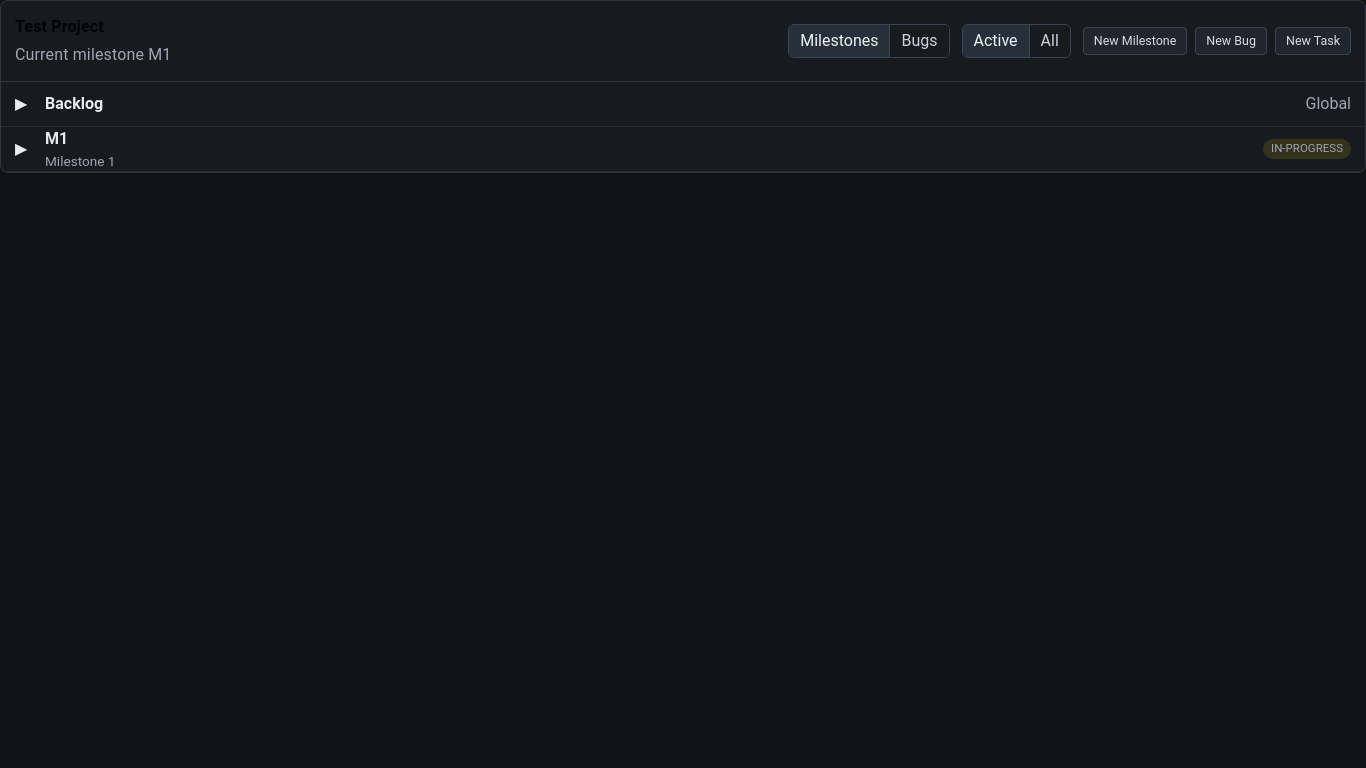
Test: TaskflowView Refactored Filters › saves task edits and surfaces notify warnings
Expected: the text "Milestone 1" is shown, [45,153,116,169]
Click the button "▶ M1 Milestone 1 in-progress". click: x=80, y=161
box: [1,127,1365,171]
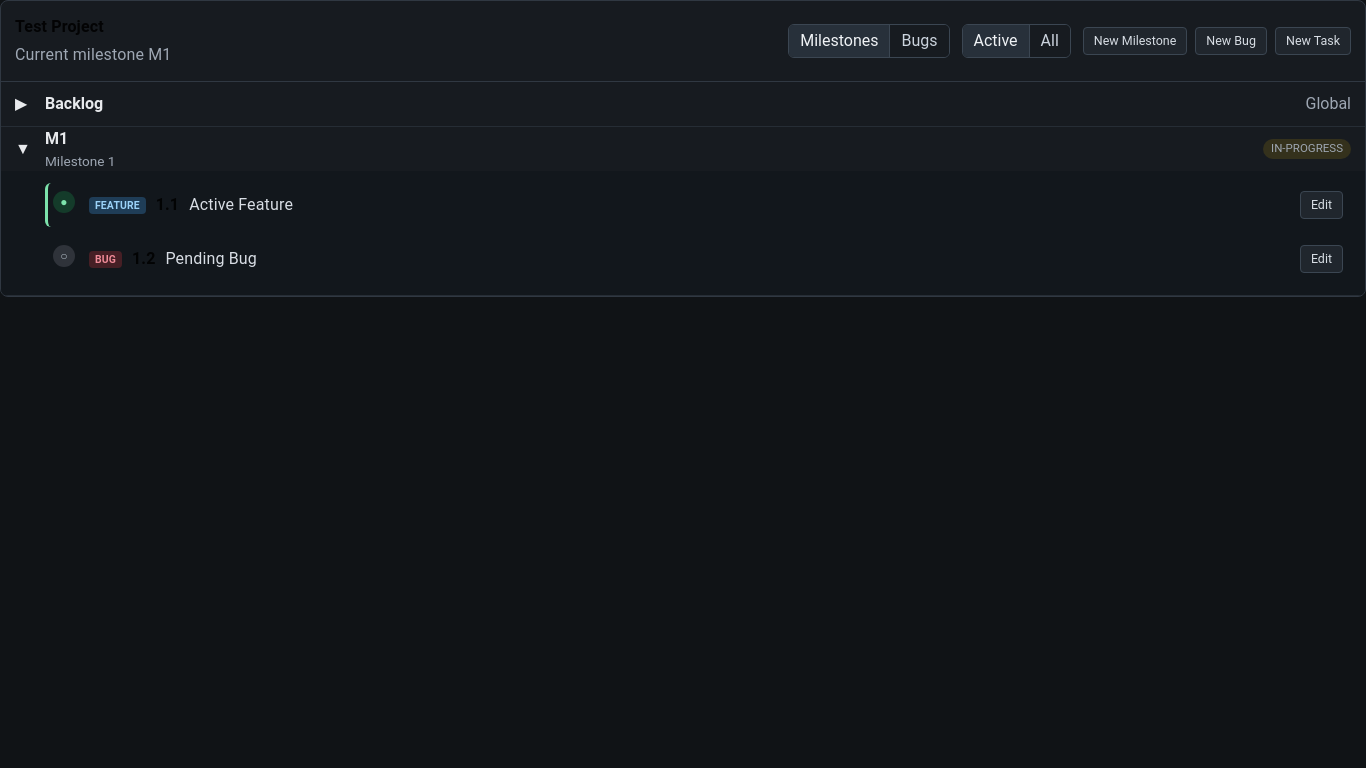
Result: the text "Active Feature" is shown at [189,193,293,217]
Click the button "Edit" in the row of "Pending Bug". click: x=1321, y=259
box: [1300,245,1343,273]
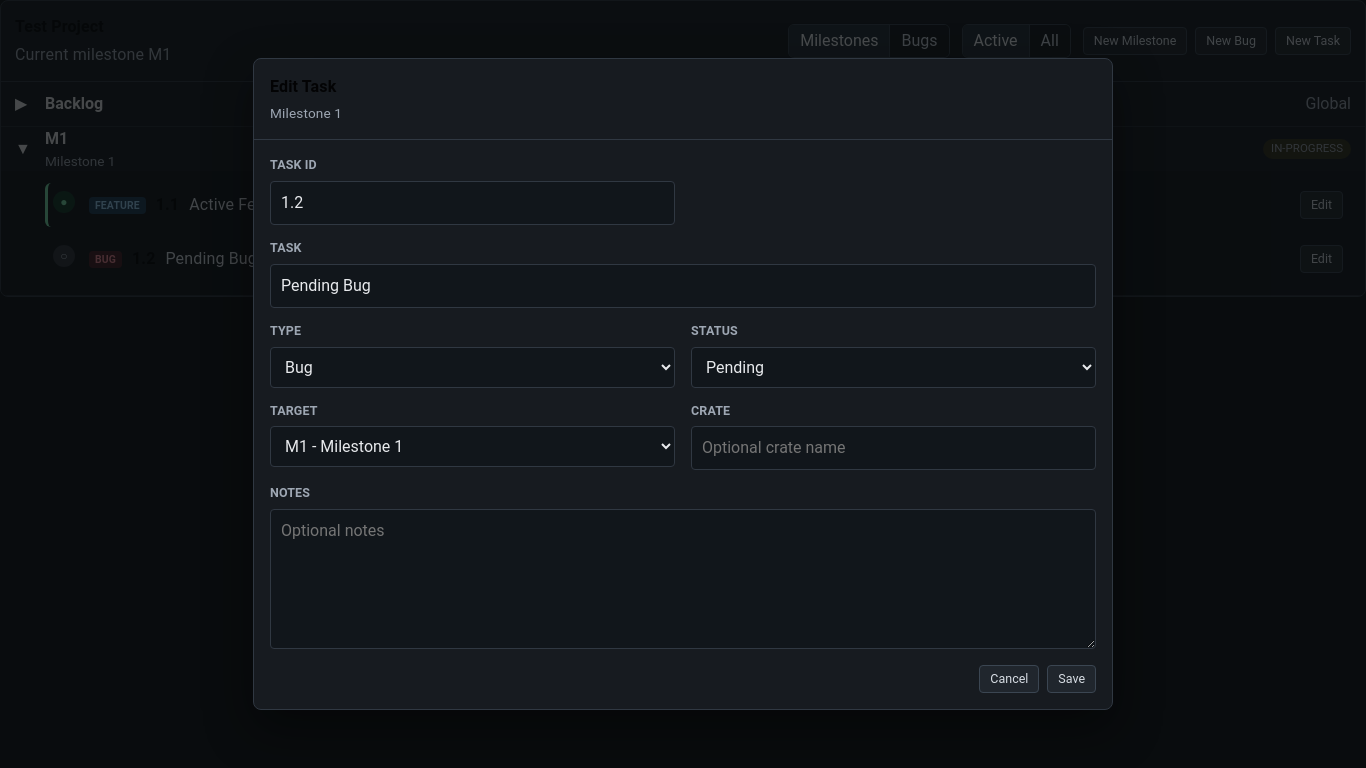
Type "updated notes" into the text box labelled "Notes". click: x=683, y=579
box: [270,509,1096,649]
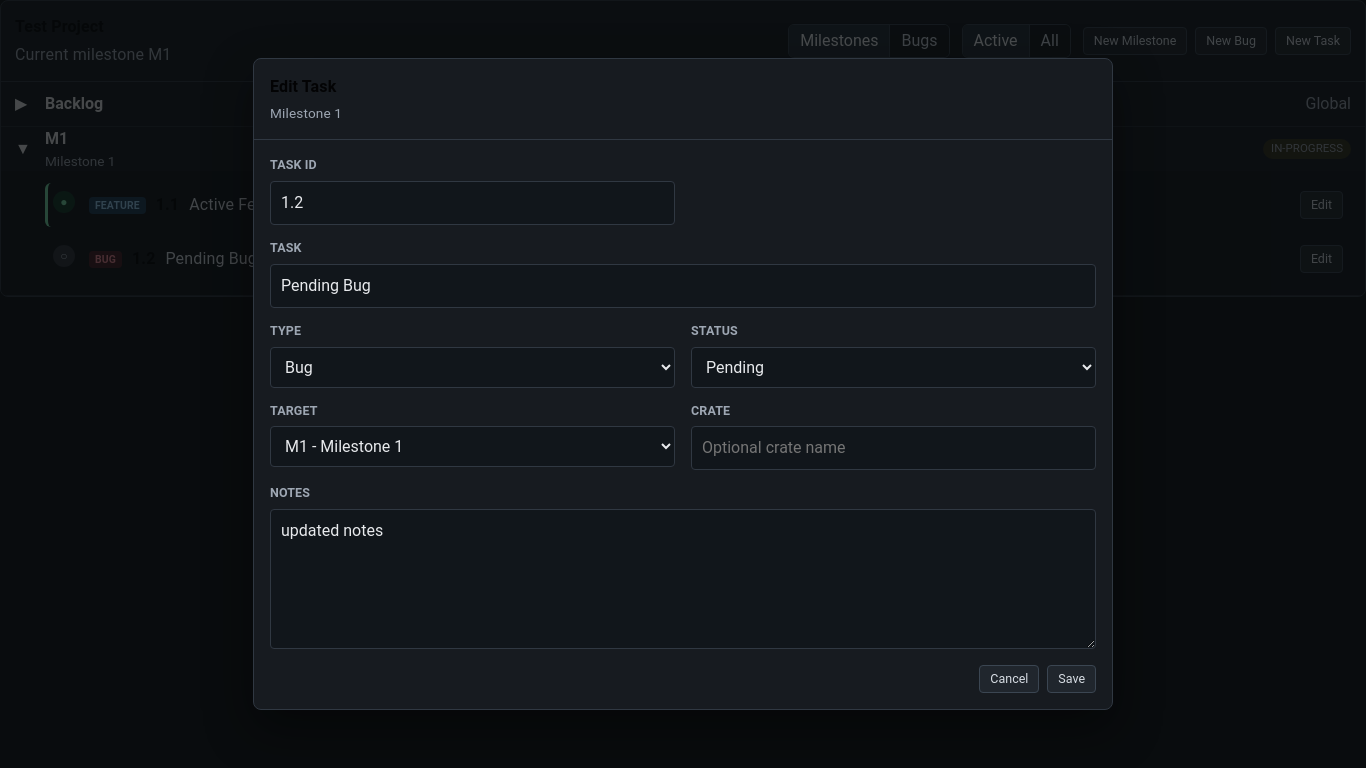
Click the button "Save". click: x=1072, y=679
box: [1047,665,1096,693]
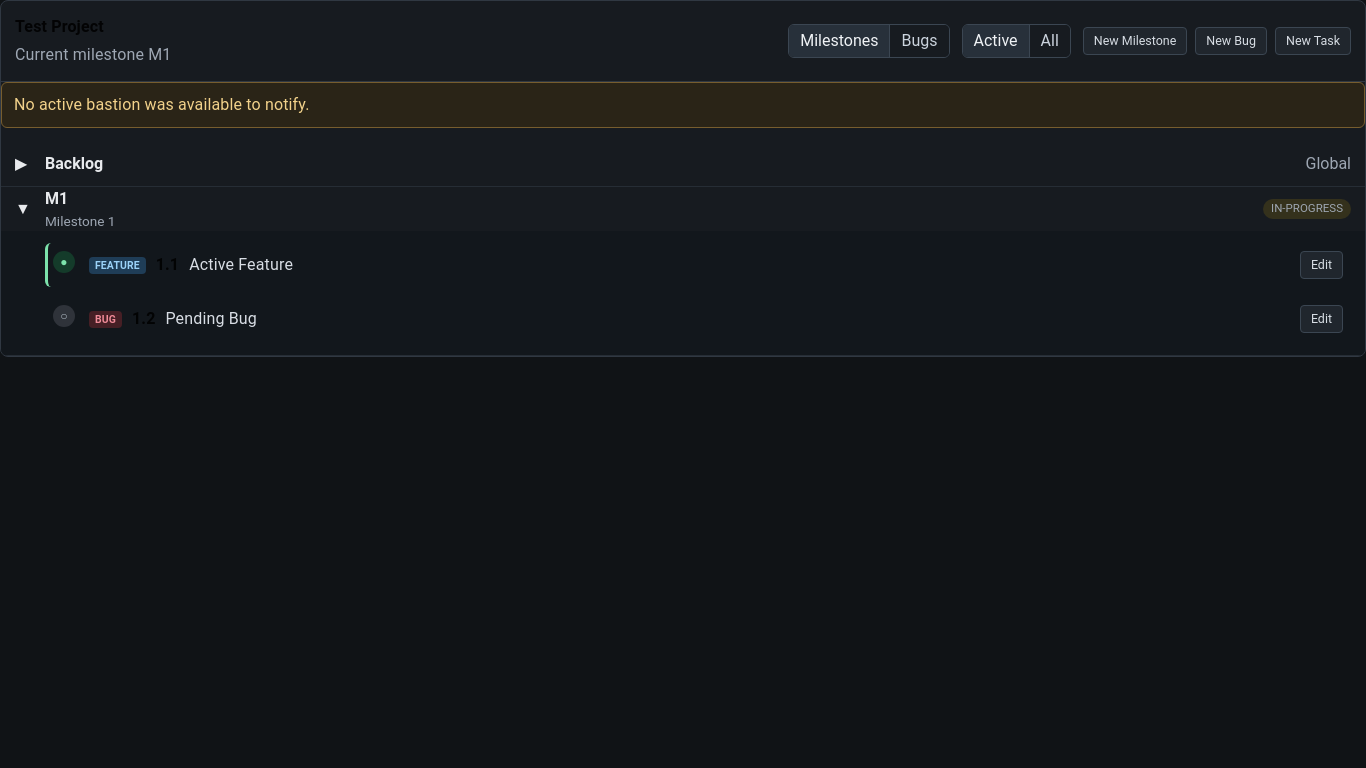
Result: the text "No active bastion was available to notify." is shown at [1,82,1365,128]
